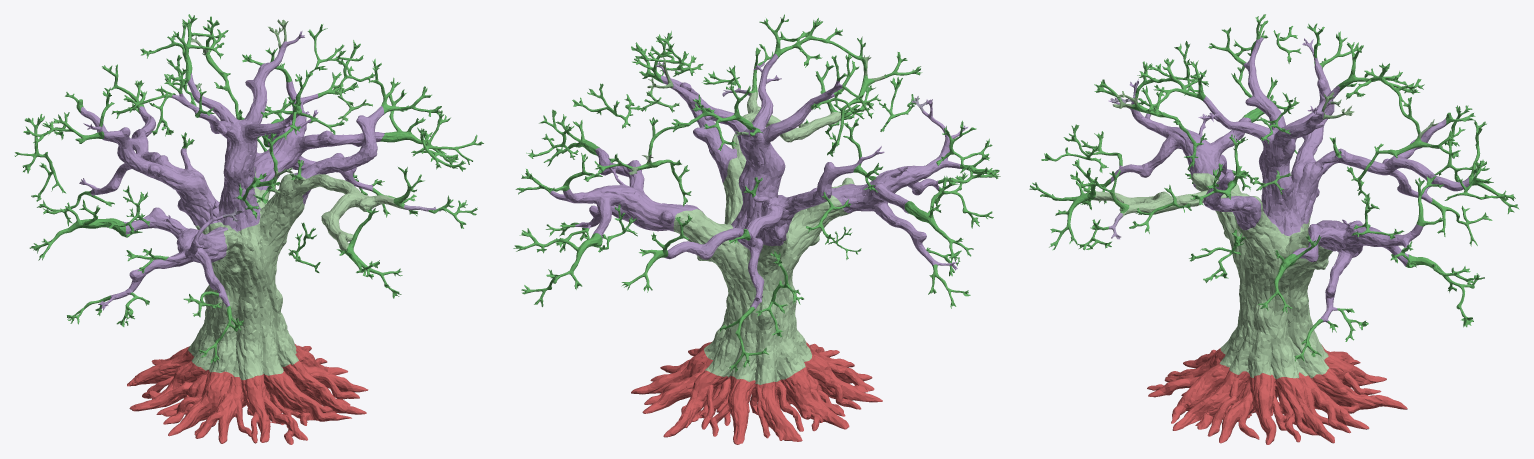
The model's file is cay-sang-kien-no-leaves.glb.
3 renders of one model, left to right at view 1: azimuth 30°, elevation 25°; view 2: azimuth 150°, elevation 25°; view 3: azimuth 270°, elevation 25°, orthographic.
Visible parts, largest first — view 1: CaySangKien; view 2: CaySangKien; view 3: CaySangKien.
Boxes of the visible parts, <box> form: CaySangKien: <box>14,14,483,444</box>; CaySangKien: <box>513,14,1000,444</box>; CaySangKien: <box>1029,14,1519,444</box>.
Size of the model in its own units: 1.96 by 1.57 by 2.
